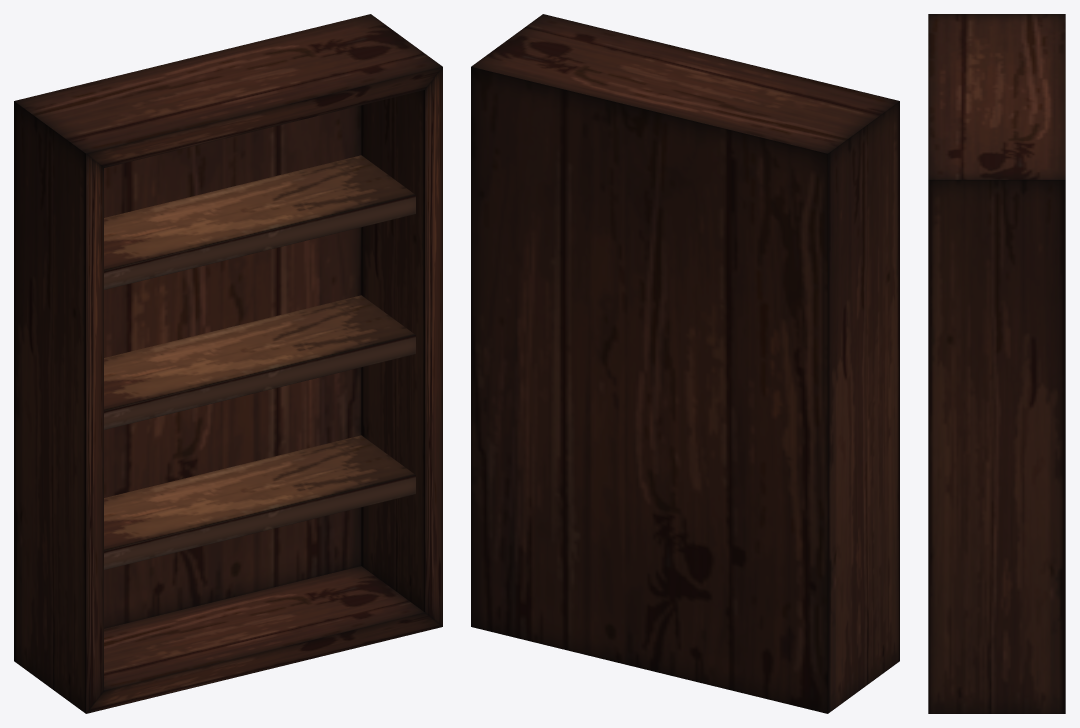
Rendered from Shelf0.fbx.
3 views of the same model, side by side, from view 1: azimuth 30°, elevation 25°; view 2: azimuth 150°, elevation 25°; view 3: azimuth 270°, elevation 25° (orthographic). The views are drawn at different scales.
Parts seen in each view (by area): view 1: Cube.001; view 2: Cube.001; view 3: Cube.001.
Boxes of the visible parts, x1,y1,x2,y2 form: Cube.001: (14,14,442,713); Cube.001: (471,14,899,713); Cube.001: (928,14,1065,713).
Size of the model in its own units: 200 by 300 by 70.
